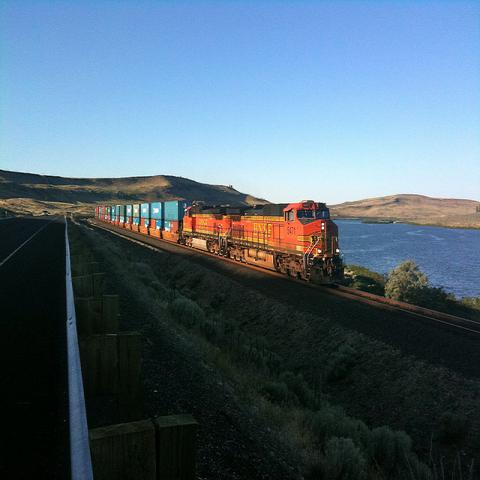car: (41, 210, 49, 216)
